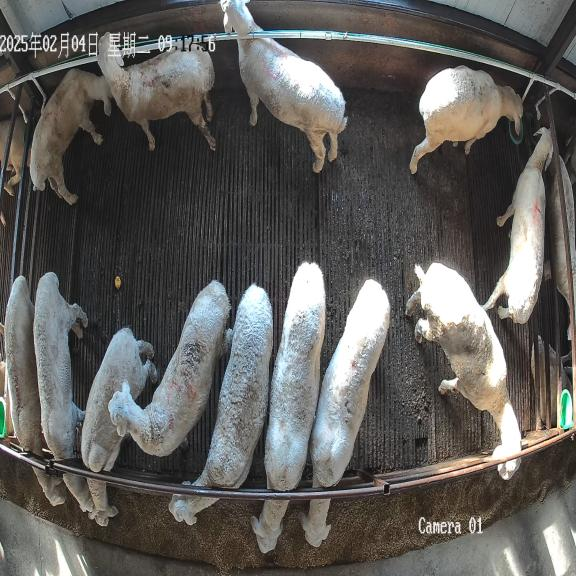drinking: (410, 65, 523, 174)
eating: (406, 263, 521, 480), (169, 284, 272, 525), (298, 279, 390, 547), (252, 262, 325, 553), (34, 272, 98, 519), (81, 327, 157, 525), (4, 276, 67, 505)
stand: (220, 0, 347, 172), (109, 280, 230, 456), (98, 32, 215, 150), (484, 128, 552, 324), (29, 69, 112, 204)
